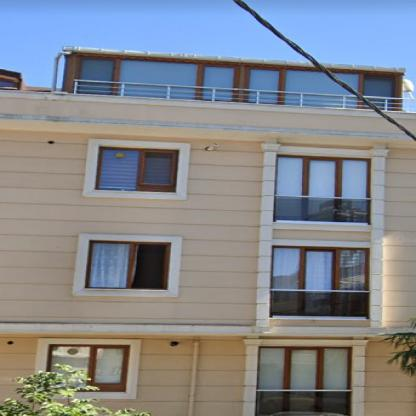window: (74, 56, 398, 110), (271, 246, 367, 290), (258, 347, 349, 390), (275, 156, 367, 198), (87, 243, 168, 288), (98, 148, 175, 190), (50, 346, 124, 386), (1, 80, 12, 86)
